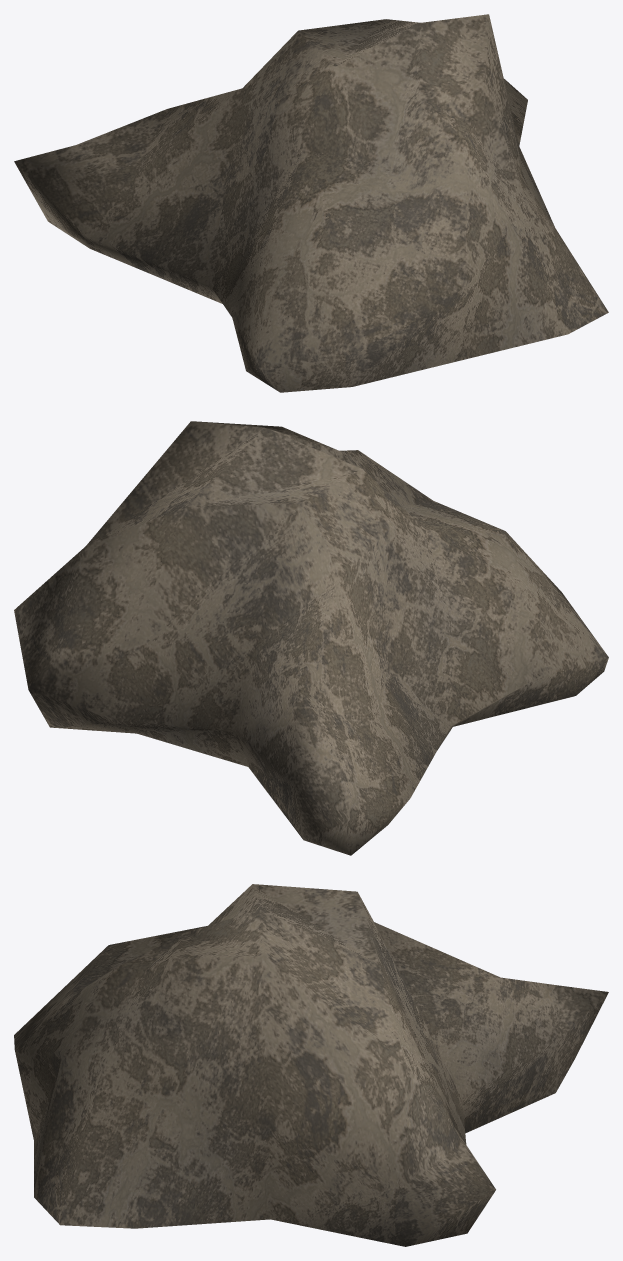
Rendered from Rock_01.glb.
The picture shows the model from 3 angles, top to bottom: view 1: azimuth 30°, elevation 25°; view 2: azimuth 150°, elevation 25°; view 3: azimuth 270°, elevation 25°; orthographic projection. The views are drawn at different scales.
Parts seen in each view (by area): view 1: Rock_01; view 2: Rock_01; view 3: Rock_01.
Part boxes in pixels (<box>): Rock_01: <box>14,14,608,392</box>; Rock_01: <box>14,421,608,855</box>; Rock_01: <box>14,884,608,1246</box>.
Bounding box in the file's own units: 4.07 × 2.35 × 4.61.
1 material, 1 textured.
